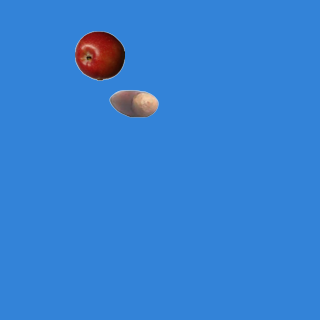Apple Braeburn: (74, 30, 124, 80)
Hazelnut: (108, 78, 158, 128)
